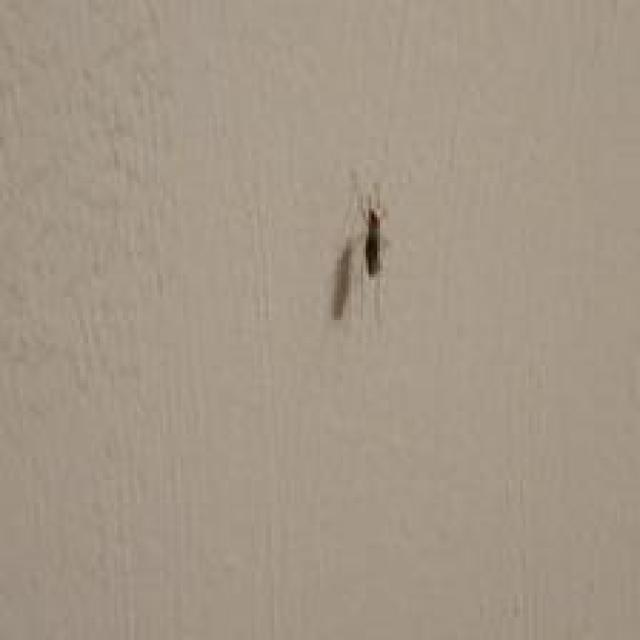Culex: (330, 168, 390, 326)
